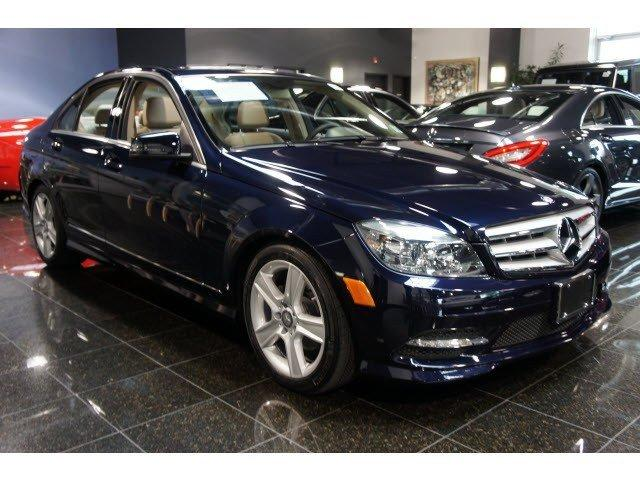Sedan: (17, 62, 613, 395), (395, 82, 639, 216)
